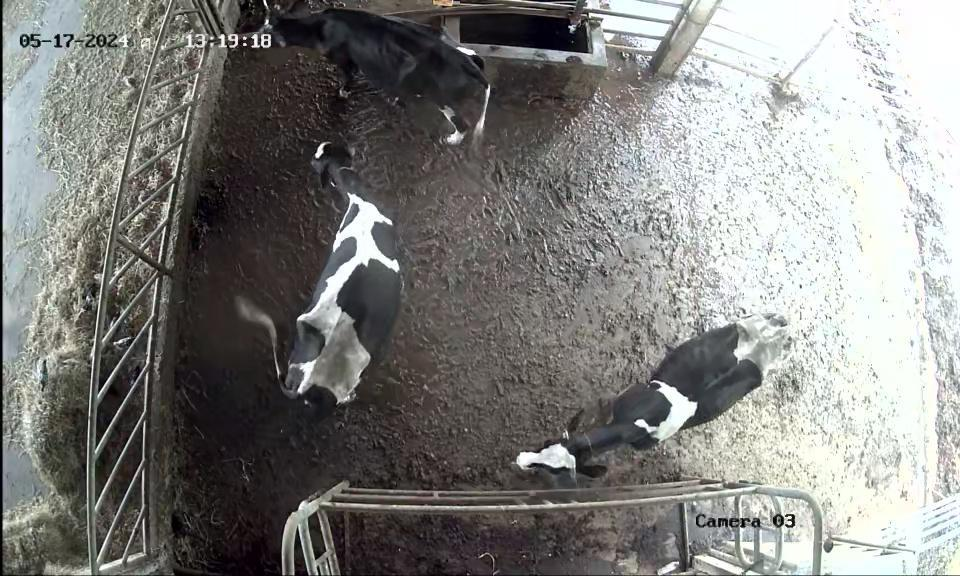stand: (497, 304, 805, 484), (248, 124, 423, 425), (252, 0, 494, 150)
